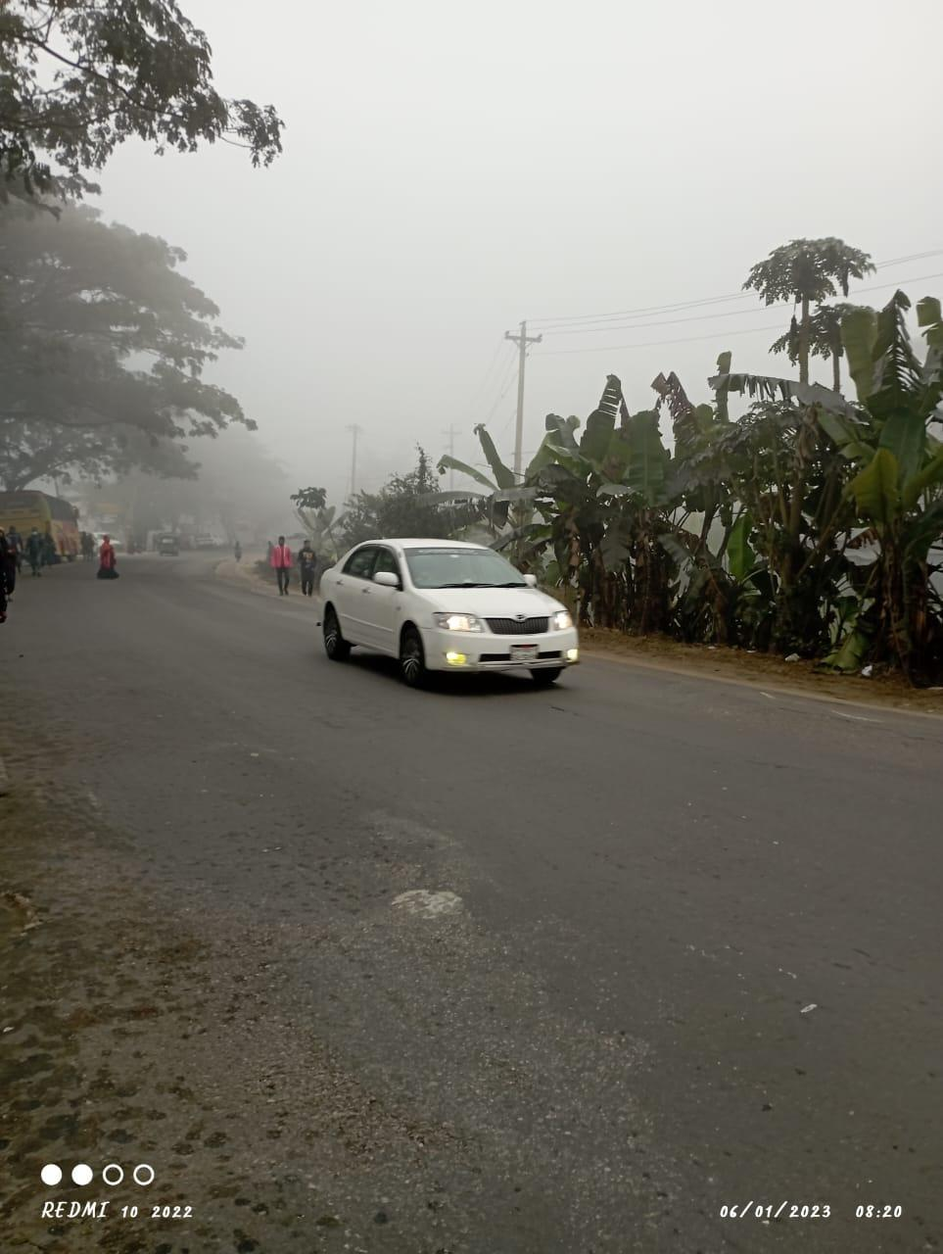Bus: (1, 474, 86, 564)
Car: (295, 536, 584, 698)
